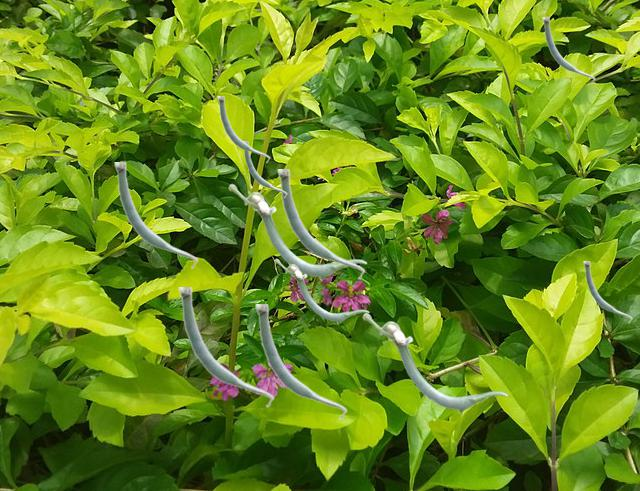french_bean: (362, 312, 507, 413), (228, 183, 366, 280), (178, 287, 273, 407), (255, 304, 346, 419), (277, 169, 364, 279), (114, 162, 197, 268), (274, 258, 368, 323), (542, 17, 594, 83), (217, 96, 269, 162), (583, 261, 631, 322), (244, 141, 286, 197)
